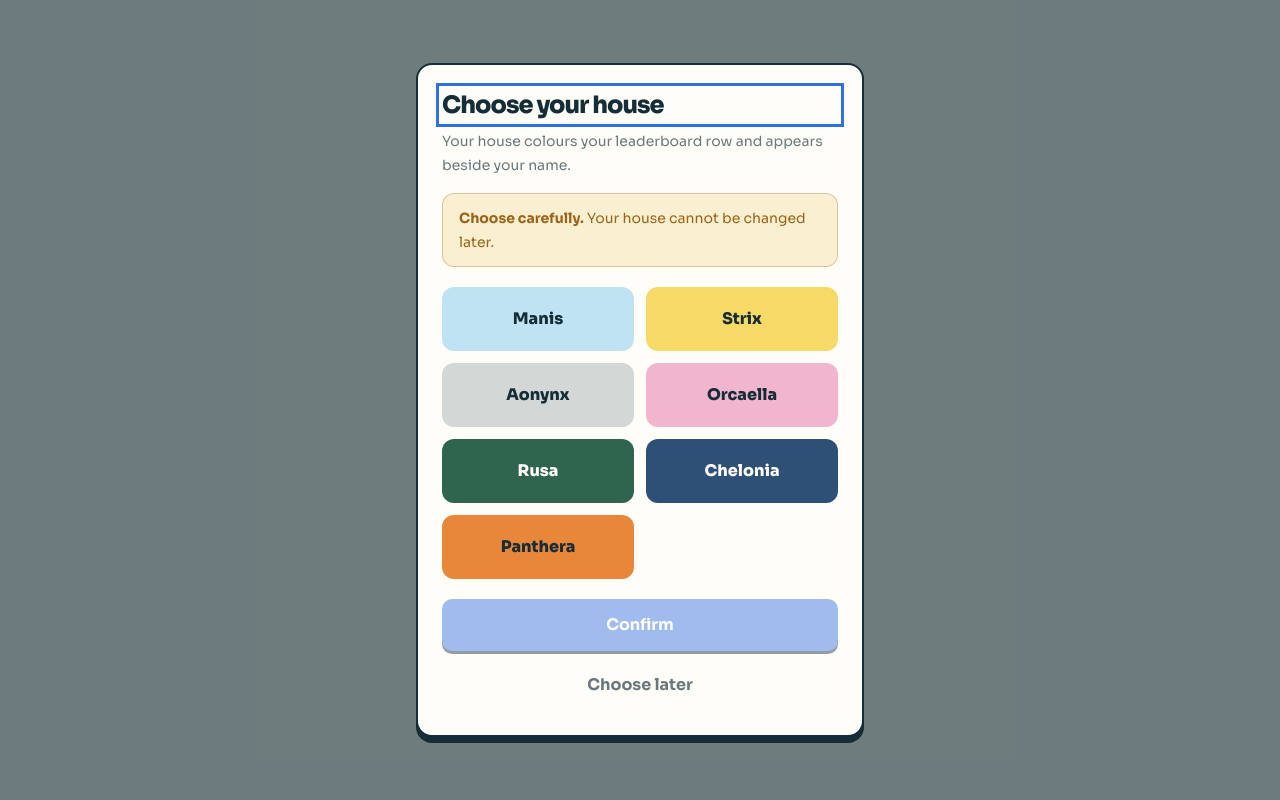
Test case: house prompt modal › explains an expired sign-in and offers a route back, without retrying the write
This screenshot has width=1280, height=800.
Click the button "Manis". click: (538, 319)
box: [442,287,634,351]
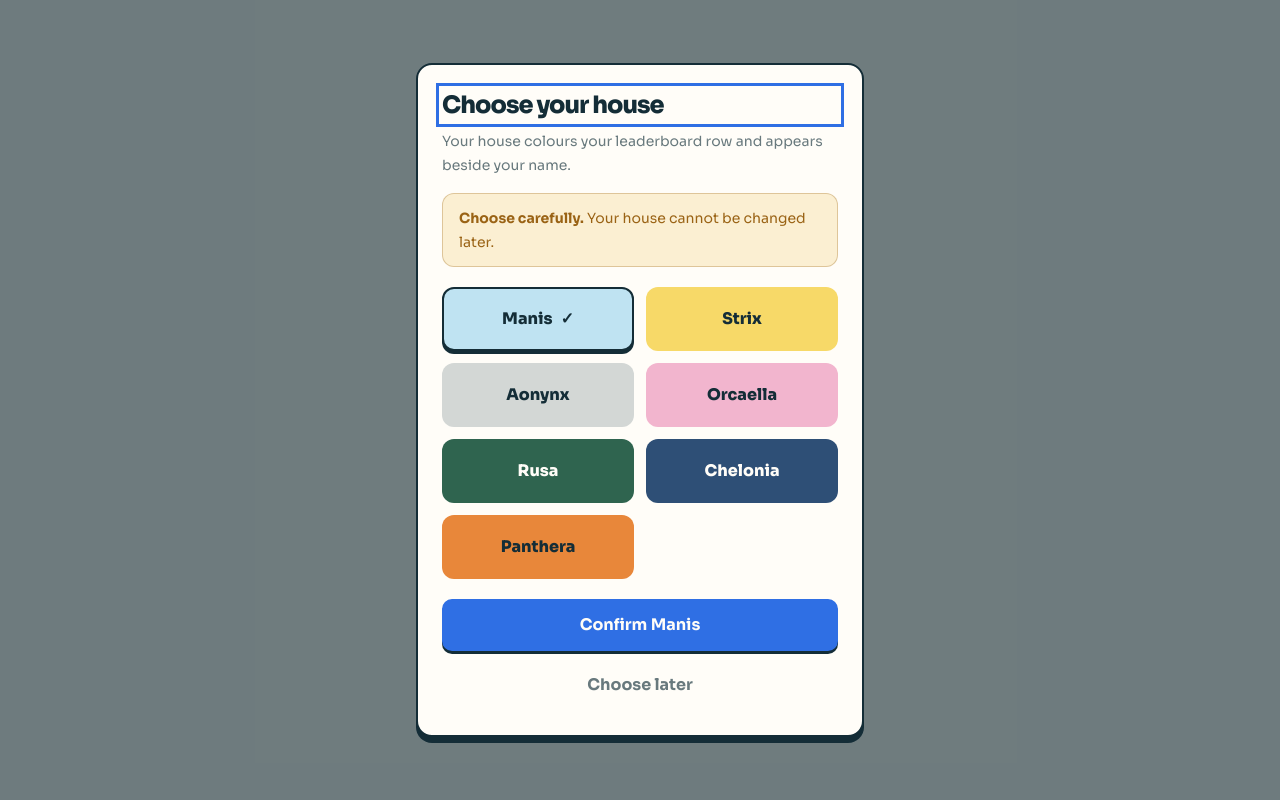
Click the button with test id "house-confirm". click: (640, 625)
box: [442,599,838,651]
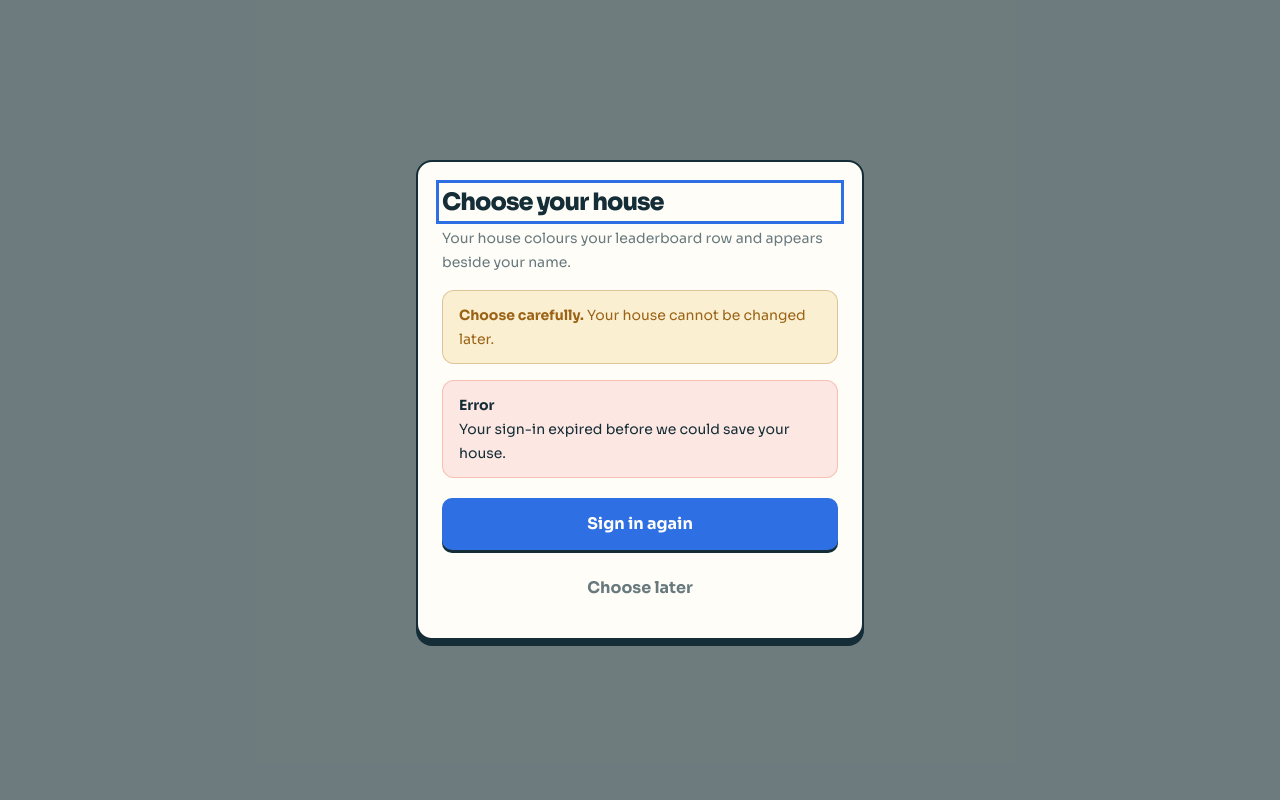
Check: the text "Your sign-in expired before we could save your house." is shown, box [459,417,821,465]
Check: the button with test id "house-confirm" is gone
